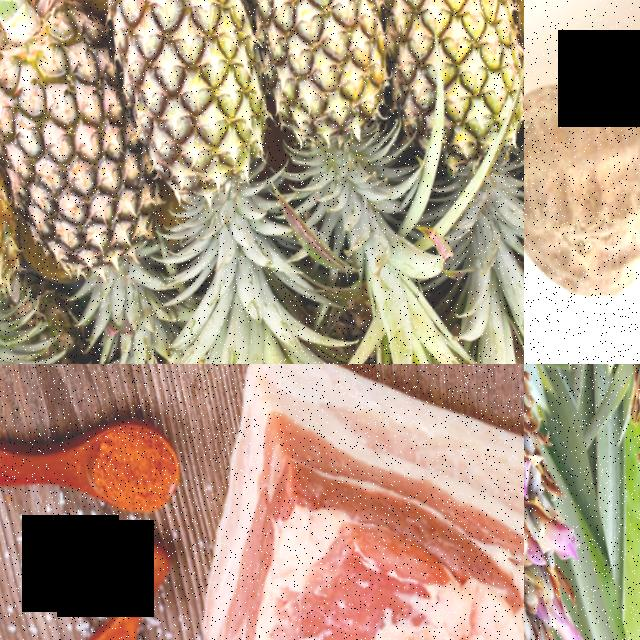peanuts: (524, 51, 640, 342)
pineapple: (88, 0, 300, 316), (0, 0, 175, 358), (225, 0, 421, 252), (355, 0, 524, 261), (524, 364, 606, 640), (0, 21, 39, 364), (603, 364, 640, 640), (481, 0, 524, 228)
pork belly: (156, 364, 524, 640)
